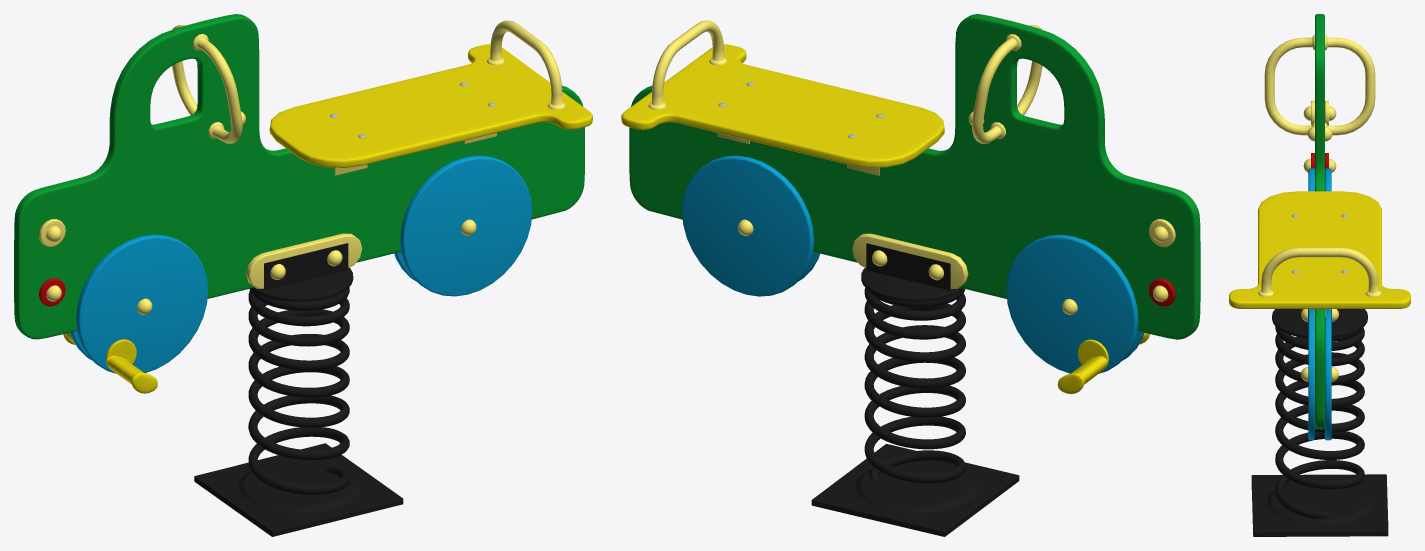
Rendered from w_playground_spring.gltf.
3 views of the same model, side by side, from view 1: azimuth 30°, elevation 25°; view 2: azimuth 150°, elevation 25°; view 3: azimuth 270°, elevation 25° (orthographic). The views are drawn at different scales.
Visible parts, largest first — view 1: AM94_057_obj_0005, AM94_057_obj_0006, AM94_057_obj_0003, AM94_057_obj_0001, AM94_057_obj_0002, AM94_057_obj_0008, AM94_057_obj_0004; view 2: AM94_057_obj_0005, AM94_057_obj_0006, AM94_057_obj_0003, AM94_057_obj_0001, AM94_057_obj_0002, AM94_057_obj_0008, AM94_057_obj_0004; view 3: AM94_057_obj_0003, AM94_057_obj_0001, AM94_057_obj_0002, AM94_057_obj_0005, AM94_057_obj_0006.
Part boxes in pixels (x1=…): AM94_057_obj_0005: x1=14, y1=14, x2=584, y2=339; AM94_057_obj_0006: x1=70, y1=155, x2=532, y2=373; AM94_057_obj_0003: x1=194, y1=243, x2=403, y2=536; AM94_057_obj_0001: x1=269, y1=44, x2=592, y2=167; AM94_057_obj_0002: x1=46, y1=20, x2=565, y2=314; AM94_057_obj_0008: x1=39, y1=219, x2=362, y2=288; AM94_057_obj_0004: x1=63, y1=332, x2=157, y2=393; AM94_057_obj_0005: x1=629, y1=14, x2=1200, y2=339; AM94_057_obj_0006: x1=682, y1=155, x2=1144, y2=373; AM94_057_obj_0003: x1=811, y1=243, x2=1019, y2=536; AM94_057_obj_0001: x1=621, y1=44, x2=944, y2=167; AM94_057_obj_0002: x1=648, y1=20, x2=1168, y2=314; AM94_057_obj_0008: x1=852, y1=219, x2=1175, y2=289; AM94_057_obj_0004: x1=1057, y1=333, x2=1149, y2=394; AM94_057_obj_0003: x1=1251, y1=309, x2=1388, y2=536; AM94_057_obj_0001: x1=1229, y1=191, x2=1410, y2=308; AM94_057_obj_0002: x1=1258, y1=35, x2=1381, y2=381; AM94_057_obj_0005: x1=1315, y1=14, x2=1324, y2=429; AM94_057_obj_0006: x1=1308, y1=168, x2=1331, y2=440.
Bounding box in the file's own units: 0.7 × 0.5922 × 0.22.
